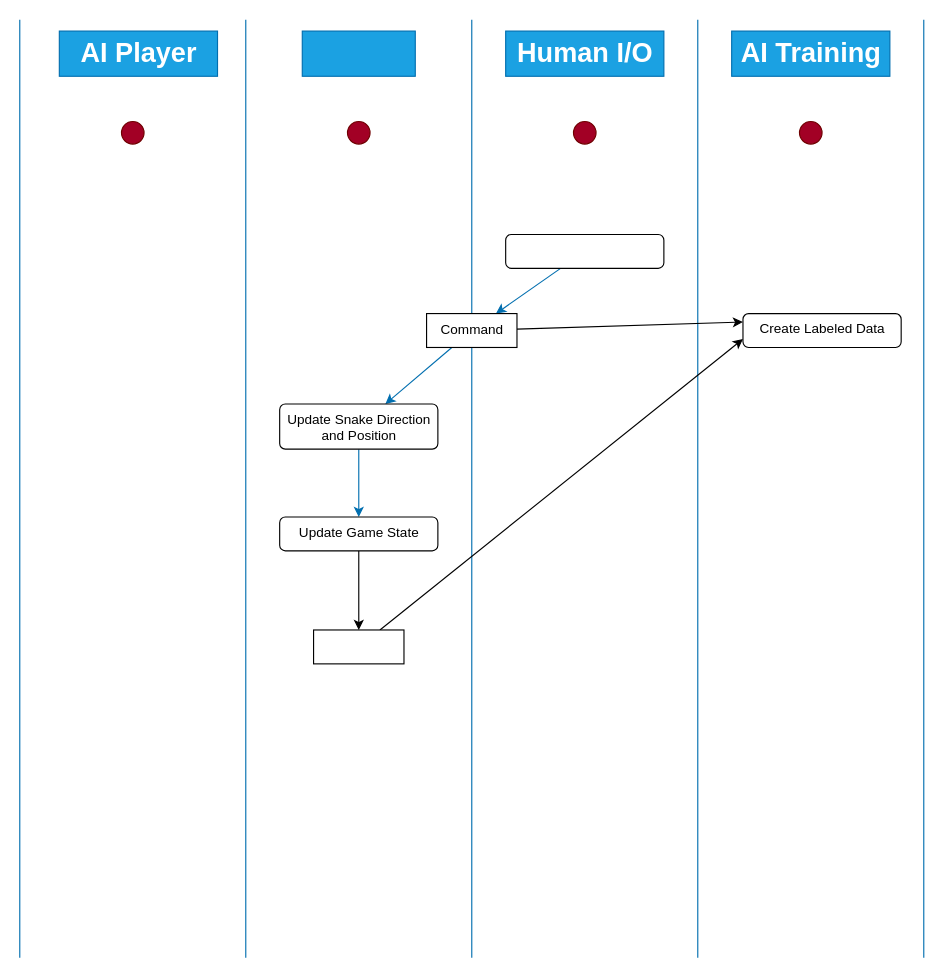
The diagram is 945 pixels wide and 979 high, and some of its shapes have lost their labels. Each missing label, with the centre of its shape:
Controls Snake: [584,250]
Game: [358,53]
Game State: [358,646]
